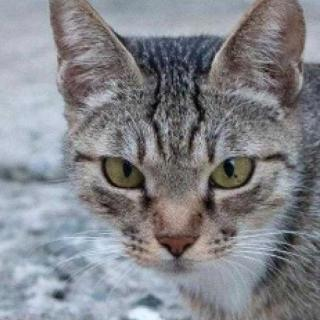cat: (44, 0, 320, 278)
nose: (150, 218, 200, 262)
